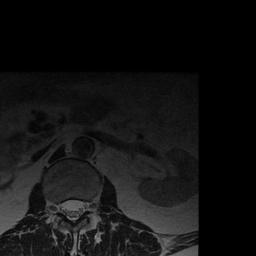CCS_normal: (68, 188, 76, 230)
LFS_normal: (85, 190, 93, 218)
LLS_normal: (76, 190, 86, 223)
RFS_normal: (50, 190, 58, 221)
RLS_normal: (58, 192, 68, 221)
